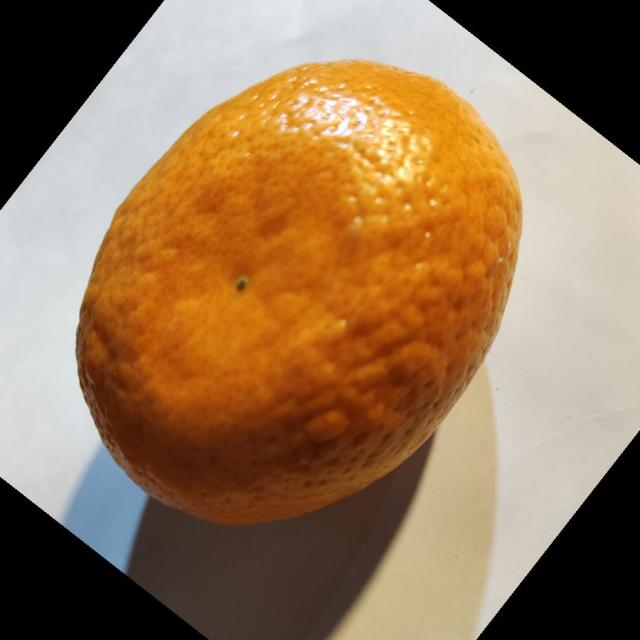fresh orange: (74, 58, 524, 526)
